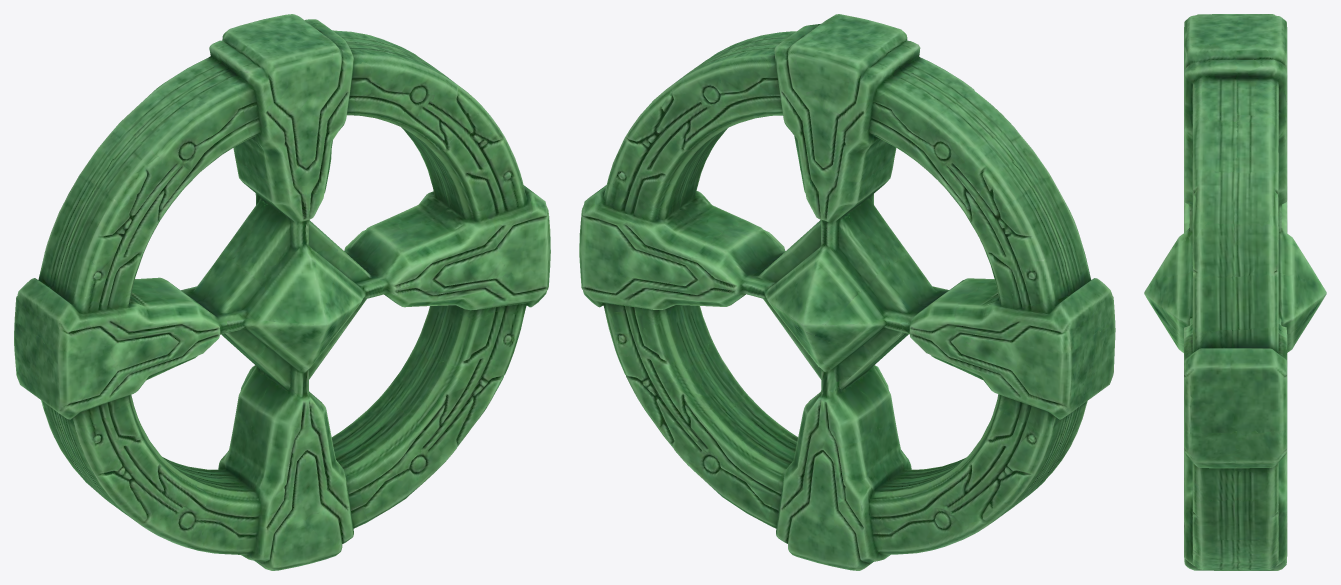
File: jade_circuit.glb
The picture shows the model from 3 angles, left to right: view 1: azimuth 30°, elevation 25°; view 2: azimuth 150°, elevation 25°; view 3: azimuth 270°, elevation 25°; orthographic projection. The views are drawn at different scales.
Size of the model in its own units: 1.89 by 1.88 by 0.5943.
1 material, 1 textured.
